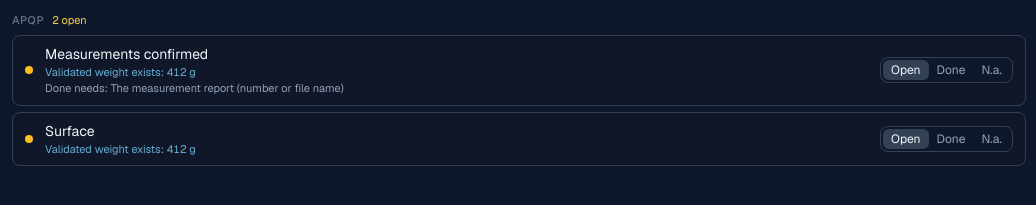
Test: ReleaseChecklist › P3-18: an open row says up front what Done will ask for; a row without a reference does not
Check: the text with test id "release-check-parts_measured-needs" reads "Done needs: The measurement report (number or file name)", box x1=45 y1=81 x2=344 y2=95
Click the radio button with test id "release-check-parts_measured-done": {"x": 951, "y": 70} x1=929 y1=60 x2=973 y2=80
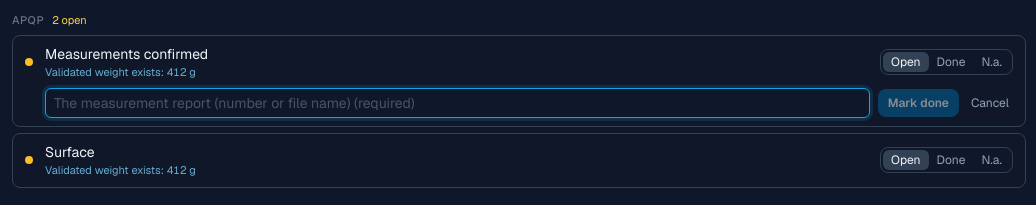
Check: the text with test id "release-check-parts_measured-needs" is gone
